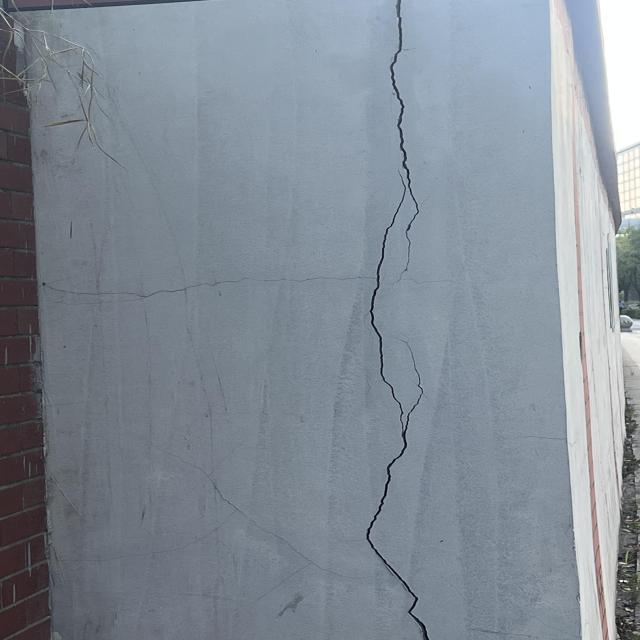crack: (341, 0, 453, 637), (38, 262, 367, 306)
